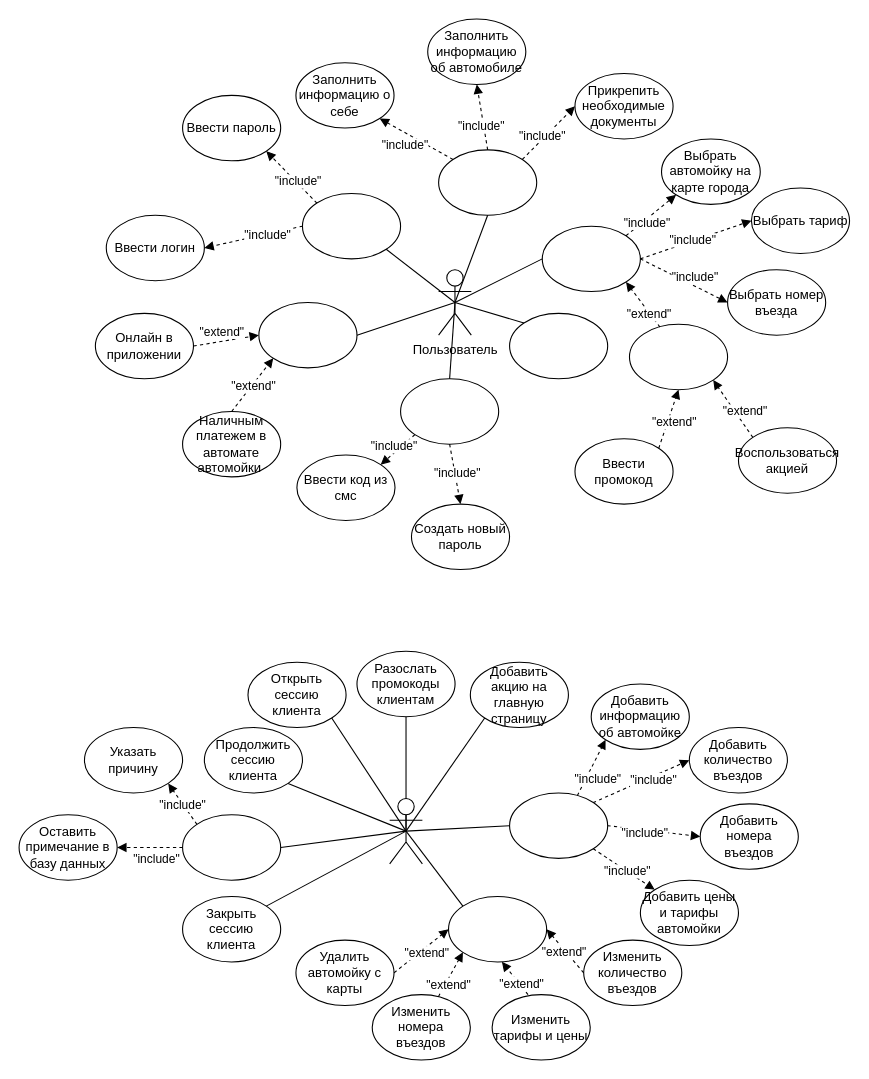
This 869x1079 diagram has some shape labels left out. Each missing label, with the box of its shape:
Администратор автомойки: (389, 797, 422, 864)
Активировать автомойку: (541, 225, 640, 292)
Войти в аккаунт: (301, 192, 401, 259)
Воспользоваться бонусами: (628, 323, 728, 390)
Восстановить аккаунт: (399, 378, 499, 444)
Добавить автомойку на карту: (508, 792, 608, 858)
Изменить информацию об автомойке: (447, 895, 547, 962)
Оплатить автомойку: (258, 301, 357, 368)
Приостановить сессию клиента: (181, 814, 281, 880)
Создать аккаунт: (438, 149, 537, 215)
Создать реферальную ссылку: (508, 312, 608, 379)
